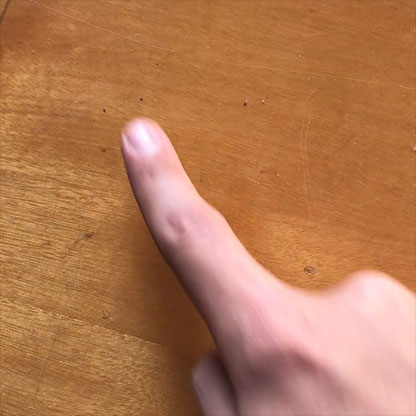fingertip: (109, 109, 178, 166)
